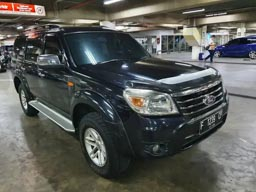plat: (199, 110, 221, 133)
